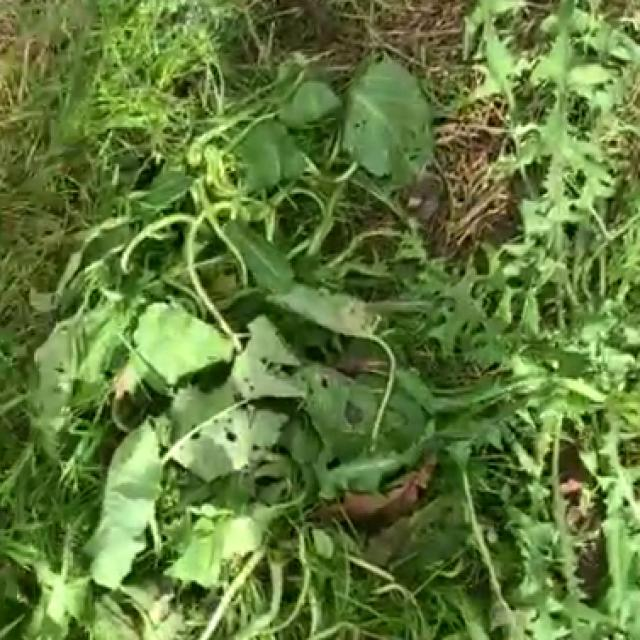organic waste: (0, 0, 548, 575)
